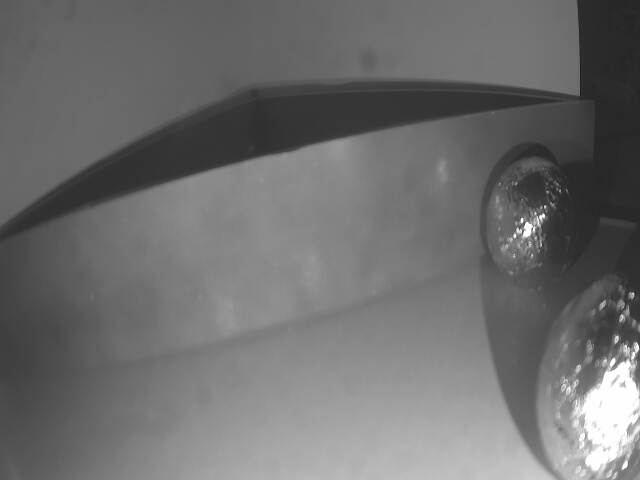Green: (0, 101, 596, 390)
Live: (532, 276, 640, 480), (490, 159, 581, 286)
